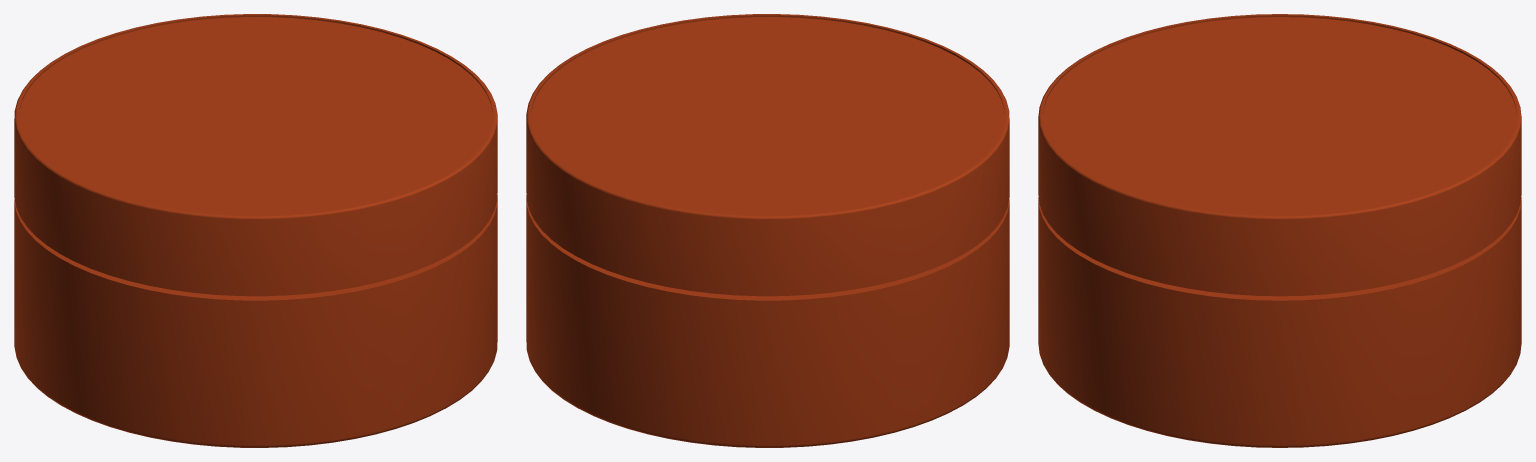
3 views of the same model, side by side, from view 1: azimuth 30°, elevation 25°; view 2: azimuth 150°, elevation 25°; view 3: azimuth 270°, elevation 25° (orthographic).
Visible parts, largest first — view 1: body; view 2: body; view 3: body.
Boxes of the visible parts, left/top/right/bottom form: body: left=14, top=14, right=497, bottom=447; body: left=526, top=14, right=1009, bottom=447; body: left=1038, top=14, right=1521, bottom=447.
Size of the model in its own units: 0.1 by 0.053 by 0.1.
